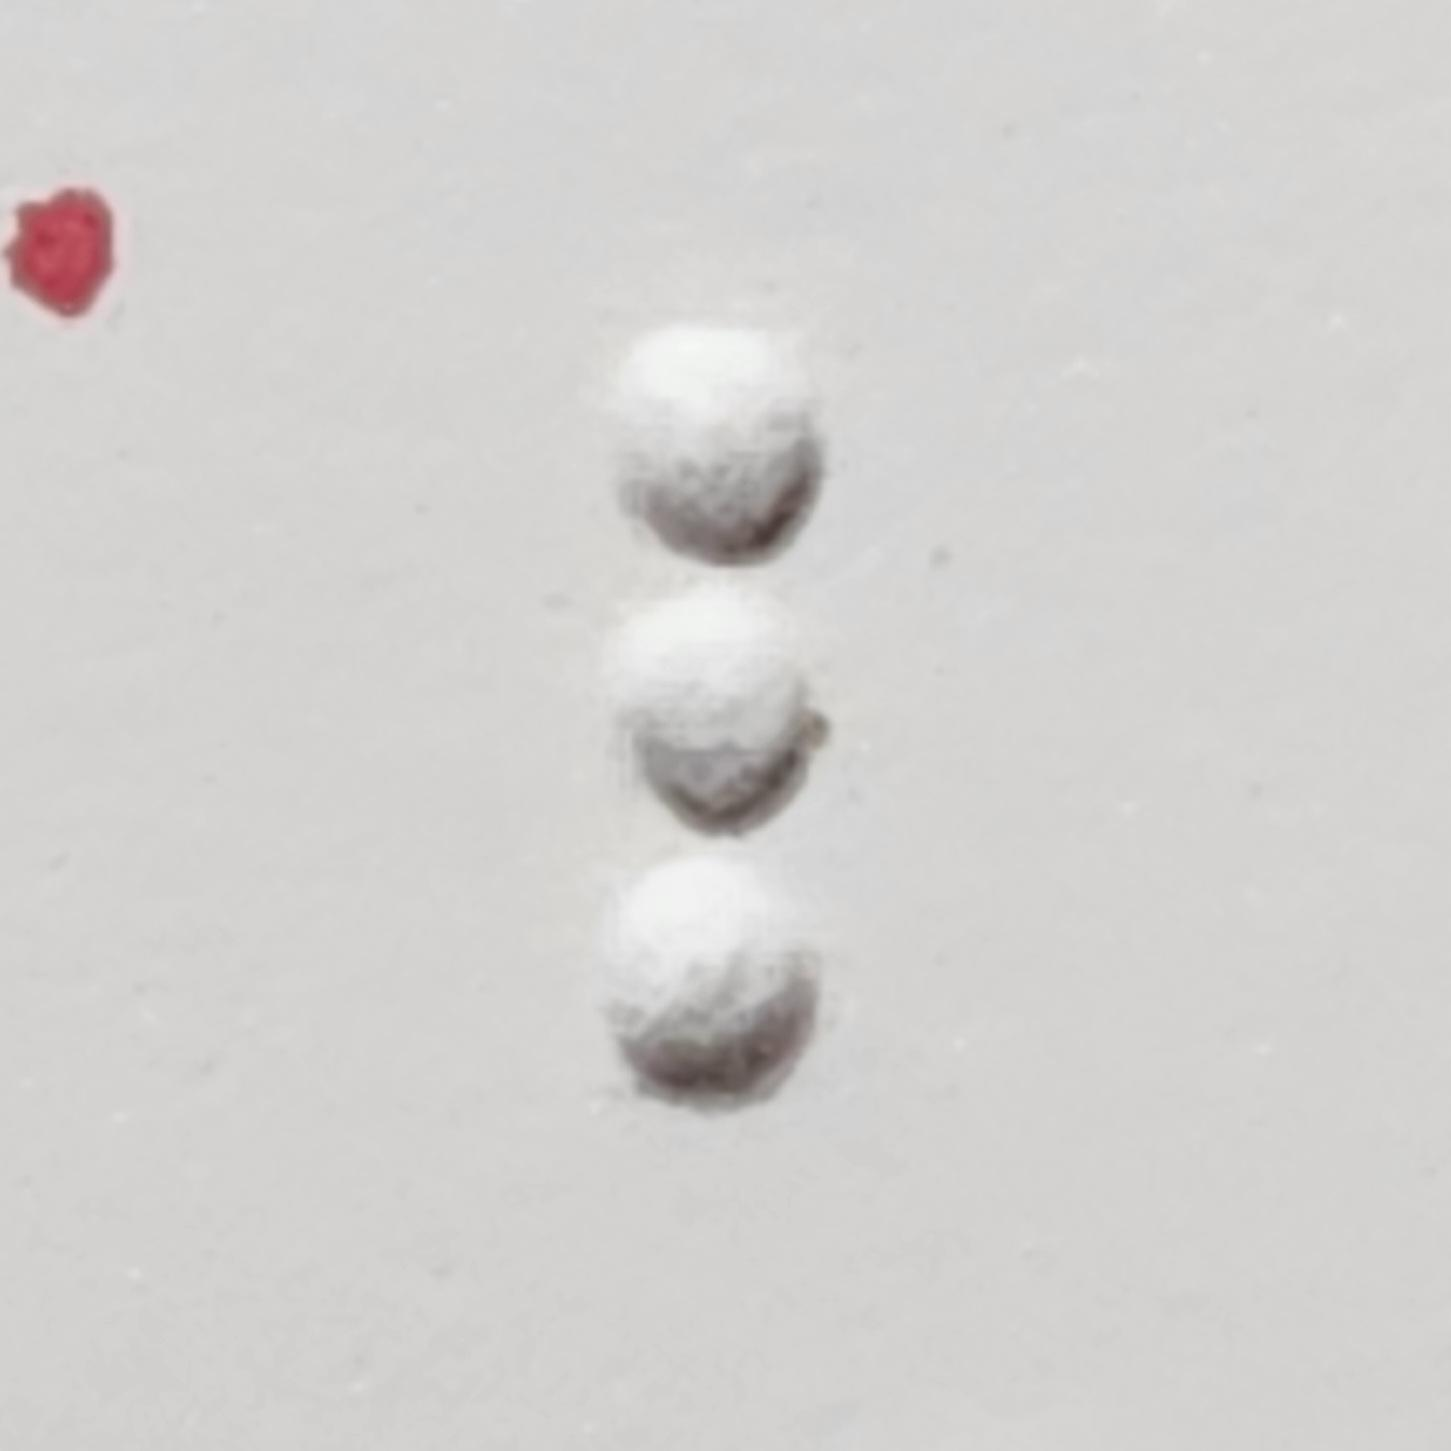letter_l: (621, 318, 1128, 1125)
